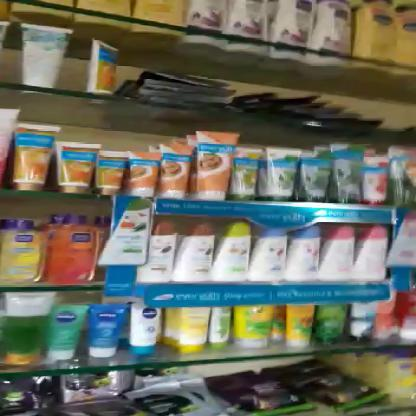Everyuth Naturals Body Lotion Nourishing Cocoa 200ml: (141, 220, 185, 282), (178, 219, 218, 282)
Everyuth Naturals Body Lotion Rejuvenating Flora 200ml: (324, 228, 364, 281), (359, 226, 391, 283)
Everyuth Naturals Body Lotion Soothing Citrus 200ml: (219, 218, 256, 280)
Everyuth Naturals Body Lotion Sun Care Berries SPF 15 200ml: (286, 223, 324, 281), (252, 225, 290, 280)
